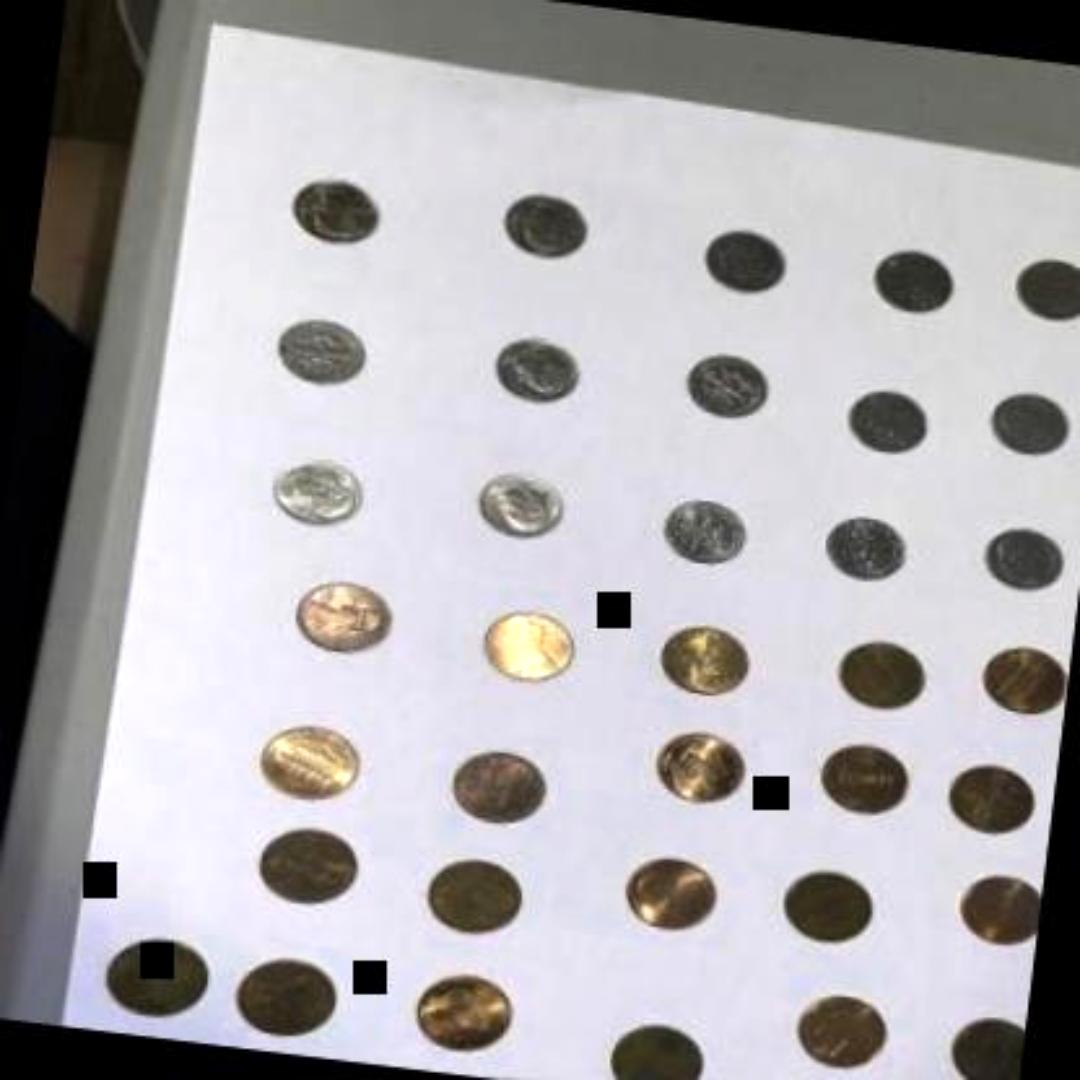Dime: (262, 450, 368, 534), (684, 220, 800, 296), (283, 165, 381, 253), (496, 182, 592, 264), (857, 242, 963, 316), (834, 382, 936, 458), (982, 380, 1072, 464), (470, 466, 568, 543), (652, 490, 752, 565), (976, 514, 1072, 592), (816, 508, 914, 584), (678, 349, 774, 422), (274, 316, 368, 388), (495, 333, 581, 408), (1016, 250, 1080, 322)
Penny: (224, 946, 340, 1046), (406, 962, 524, 1058), (287, 568, 401, 658), (251, 816, 365, 906), (616, 843, 724, 936), (826, 627, 932, 715), (651, 612, 757, 700), (445, 737, 551, 825), (422, 853, 524, 941), (258, 719, 364, 802), (105, 938, 209, 1022), (782, 858, 880, 946), (789, 988, 893, 1070), (477, 604, 578, 688), (815, 732, 916, 816), (648, 724, 747, 808), (939, 756, 1037, 840), (944, 868, 1042, 951), (975, 634, 1071, 718), (935, 1004, 1025, 1080), (602, 1020, 714, 1080)
